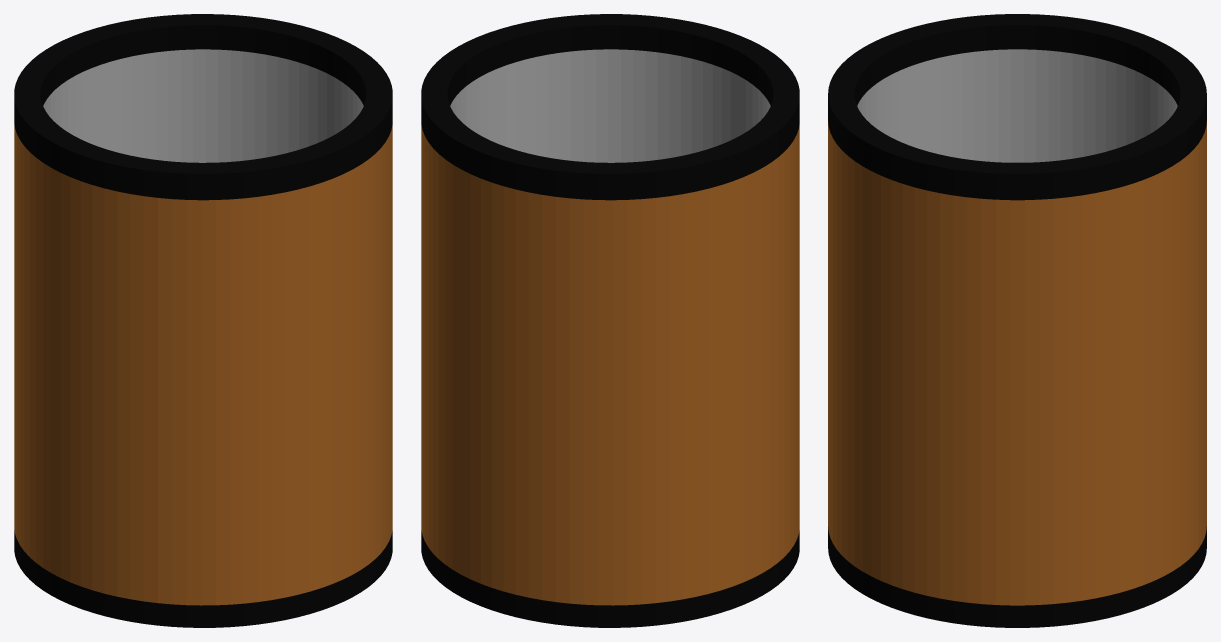
File: Trashcan.fbx
3 views of the same model, side by side, from view 1: azimuth 30°, elevation 25°; view 2: azimuth 150°, elevation 25°; view 3: azimuth 270°, elevation 25° (orthographic).
Visible parts, largest first — view 1: Cylinder; view 2: Cylinder; view 3: Cylinder.
Part boxes in pixels (x1,y1,x2,y2): Cylinder: [14, 14, 392, 627]; Cylinder: [421, 14, 799, 627]; Cylinder: [828, 14, 1206, 627].
Size of the model in its own units: 200 by 264 by 200.
